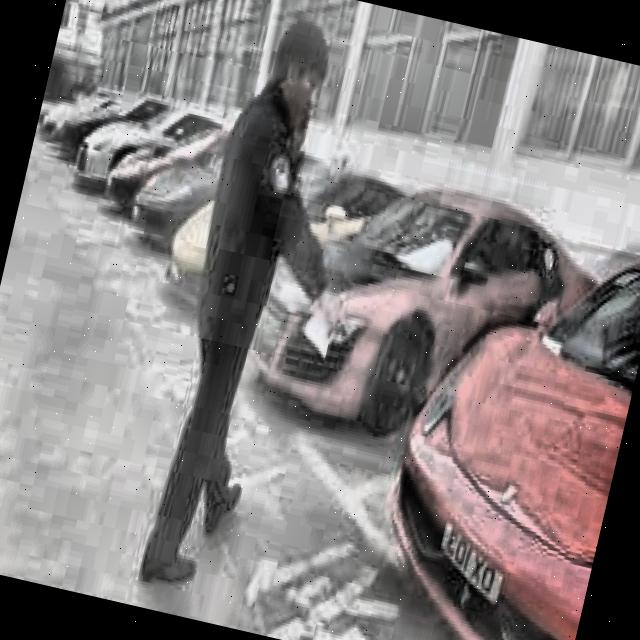license_plate: (434, 524, 506, 595)
